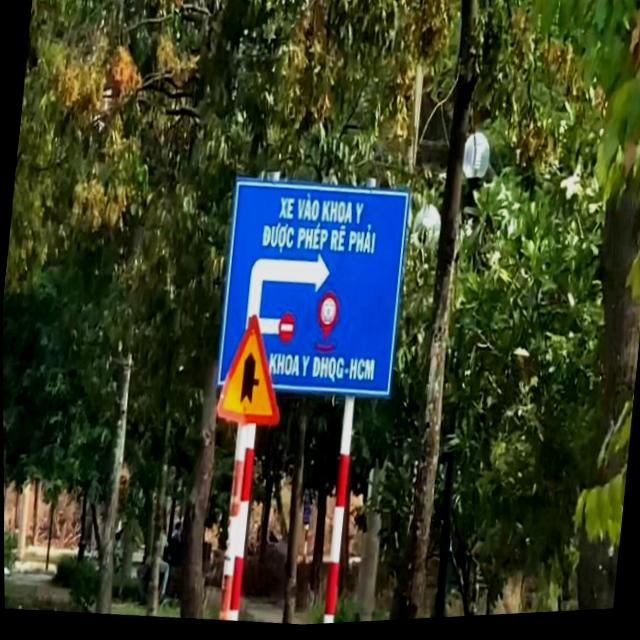Giao nhau voi duong khong uu tien ben phai: (220, 293, 307, 429)
